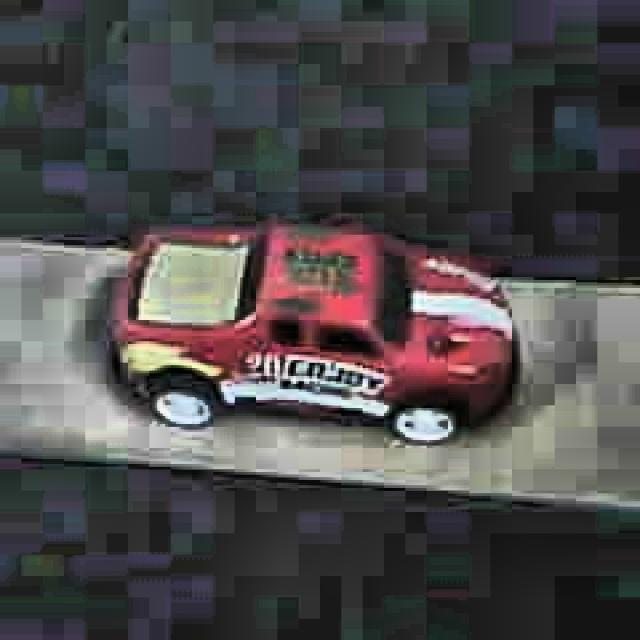car: (102, 214, 520, 449)
